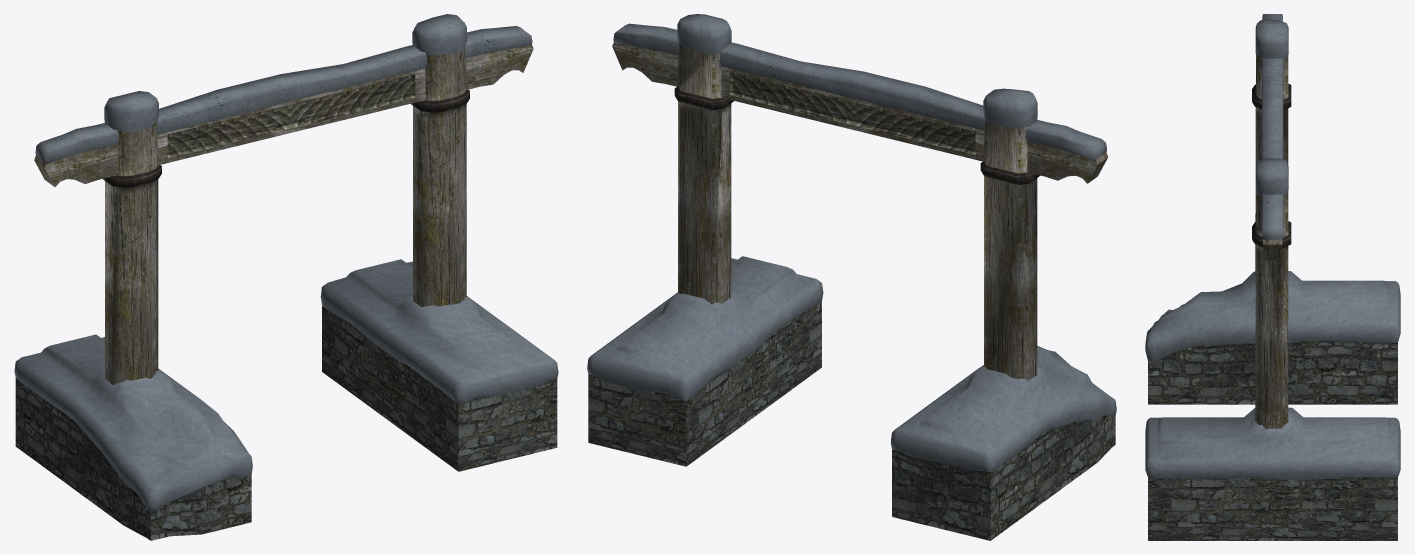
File: dlc2skaalviltotemarch01-transformed.glb
The picture shows the model from 3 angles, left to right: view 1: azimuth 30°, elevation 25°; view 2: azimuth 150°, elevation 25°; view 3: azimuth 270°, elevation 25°; orthographic projection. The views are drawn at different scales.
Visible parts, largest first — view 1: default; view 2: default; view 3: default.
Boxes of the visible parts, left/top/right/bottom form: default: left=14, top=14, right=558, bottom=540; default: left=587, top=14, right=1116, bottom=540; default: left=1145, top=14, right=1400, bottom=540.
Bounding box in the file's own units: 6.5 × 4.94 × 3.21.
4 materials, 4 textured.
